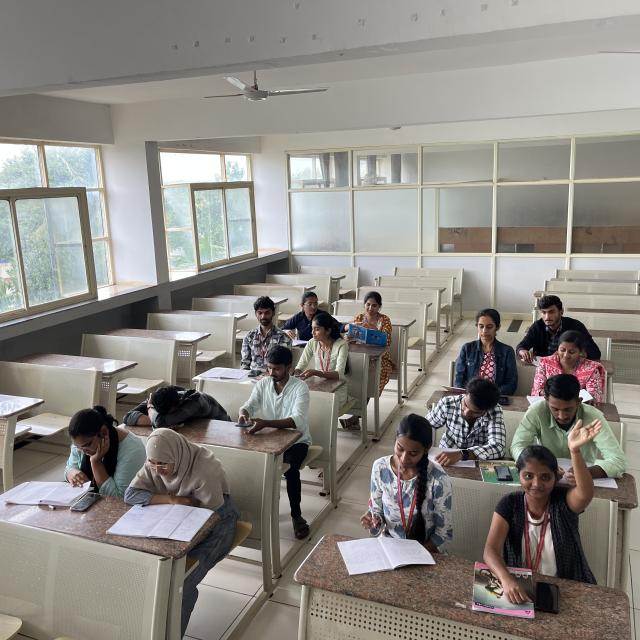Hand Rising: (501, 409, 601, 566)
Reading: (347, 418, 442, 572), (130, 429, 227, 538), (21, 402, 130, 496), (525, 333, 605, 406), (342, 290, 397, 349)
Sleeping: (123, 379, 222, 432)
Using Phone: (231, 347, 308, 436)
